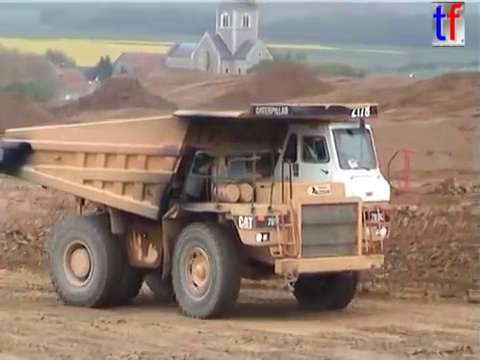truck: (1, 97, 418, 322)
